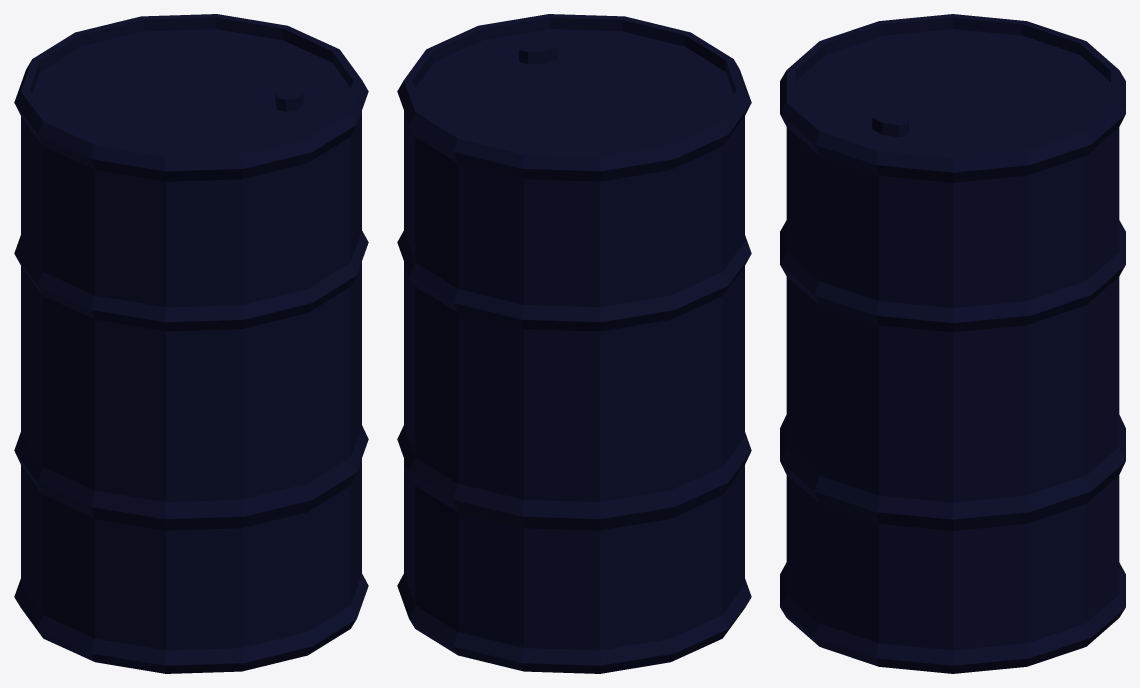
Rendered from oilbarrel.fbx.
3 renders of one model, left to right at view 1: azimuth 30°, elevation 25°; view 2: azimuth 150°, elevation 25°; view 3: azimuth 270°, elevation 25°, orthographic.
Visible parts, largest first — view 1: oilbarrel; view 2: oilbarrel; view 3: oilbarrel.
Part boxes in pixels (bbox=[...]): oilbarrel: bbox=[14, 14, 368, 673]; oilbarrel: bbox=[397, 14, 751, 673]; oilbarrel: bbox=[780, 14, 1125, 673].
Bounding box in the file's own units: 62.32 × 100 × 60.76.
